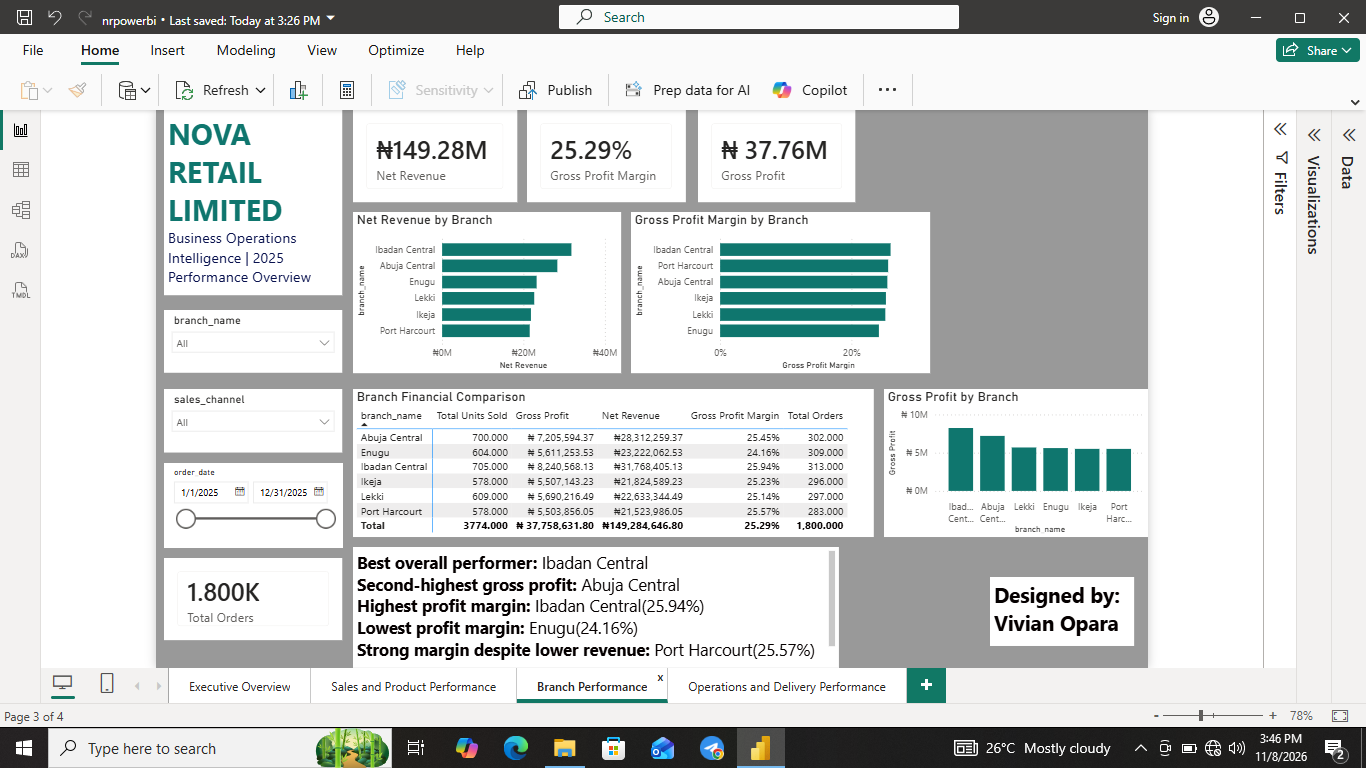

Layout of this report page (visuals, bound fields, positions):
{"tool":"powerbi","page":{"name":"Branch Performance","canvas":[1280,720],"ordinal":2},"visuals":[{"type":"textbox","box":[10.1,0,230.1,238.5],"z":0},{"type":"slicer","fields":{"Values":["nrbranchescsv.branch_name"]},"box":[10.1,258.7,230.1,80.6],"z":1000},{"type":"slicer","fields":{"Values":["nrorderscsv.order_date"]},"box":[10.1,455.2,230.1,109.2],"z":2000},{"type":"slicer","fields":{"Values":["nrorderscsv.sales_channel"]},"box":[10.1,359.5,230.1,82.3],"z":3000},{"type":"cardVisual","fields":{"Data":["nrorderscsv.Net Revenue"]},"box":[253.6,0,211.7,119.3],"z":4000},{"type":"cardVisual","fields":{"Data":["nrorderscsv.Gross Profit"]},"box":[698.8,0,203.3,119.3],"z":5000},{"type":"cardVisual","fields":{"Data":["nrorderscsv.Gross Profit Margin"]},"box":[478.7,0,204.9,119.3],"z":6000},{"type":"cardVisual","fields":{"Data":["nrorderscsv.Total Orders"]},"box":[10.1,577.8,230.1,105.8],"z":7000},{"type":"clusteredBarChart","title":"Net Revenue by Branch","fields":{"Y":["nrorderscsv.Net Revenue"],"Category":["nrbranchescsv.branch_name"]},"box":[253.6,131,346,208.3],"z":8000},{"type":"clusteredColumnChart","title":"Gross Profit by Branch","fields":{"Category":["nrbranchescsv.branch_name"],"Y":["nrorderscsv.Gross Profit"]},"box":[939,359.5,341,191.5],"z":9000},{"type":"clusteredBarChart","title":"Gross Profit Margin by Branch","fields":{"Y":["nrorderscsv.Gross Profit Margin"],"Category":["nrbranchescsv.branch_name"]},"box":[613.1,131,386.4,208.3],"z":10000},{"type":"pivotTable","title":"Branch Financial Comparison","fields":{"Rows":["nrbranchescsv.branch_name"],"Values":["nrorderscsv.Total Units Sold","nrorderscsv.Gross Profit","nrorderscsv.Net Revenue","nrorderscsv.Gross Profit Margin","nrorderscsv.Total Orders"]},"box":[253.6,359.5,671.9,191.5],"z":11000},{"type":"textbox","box":[253.6,564.4,626.6,156.2],"z":12000},{"type":"textbox","box":[1076.7,603,186.5,89],"z":13000}]}

Visuals, with their boxes on the page's 1280x720 design canvas (x1, y1, x2, y2). These are canvas units, not pixel positions in the 1366x768 screenshot, which may show the page scaled, cropped or inside an application window:
textbox: crop(10, 0, 240, 238)
slicer - nrbranchescsv.branch_name: crop(10, 259, 240, 339)
slicer - nrorderscsv.order_date: crop(10, 455, 240, 564)
slicer - nrorderscsv.sales_channel: crop(10, 360, 240, 442)
cardVisual - nrorderscsv.Net Revenue: crop(254, 0, 465, 119)
cardVisual - nrorderscsv.Gross Profit: crop(699, 0, 902, 119)
cardVisual - nrorderscsv.Gross Profit Margin: crop(479, 0, 684, 119)
cardVisual - nrorderscsv.Total Orders: crop(10, 578, 240, 684)
"Net Revenue by Branch" clusteredBarChart: crop(254, 131, 600, 339)
"Gross Profit by Branch" clusteredColumnChart: crop(939, 360, 1280, 551)
"Gross Profit Margin by Branch" clusteredBarChart: crop(613, 131, 1000, 339)
"Branch Financial Comparison" pivotTable: crop(254, 360, 926, 551)
textbox: crop(254, 564, 880, 721)
textbox: crop(1077, 603, 1263, 692)
